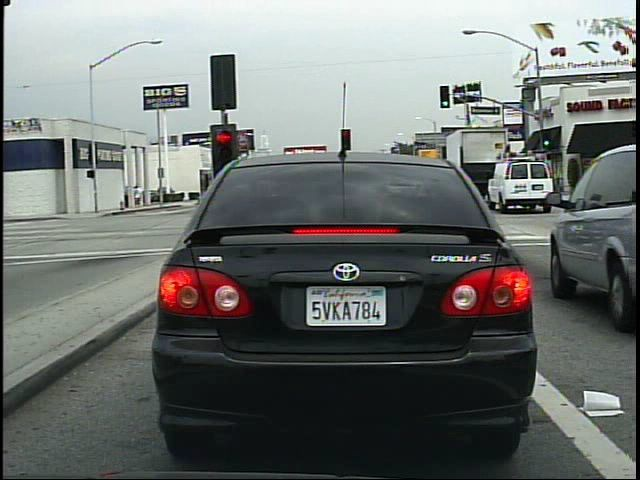person: (517, 169, 532, 202), (133, 182, 145, 211)
